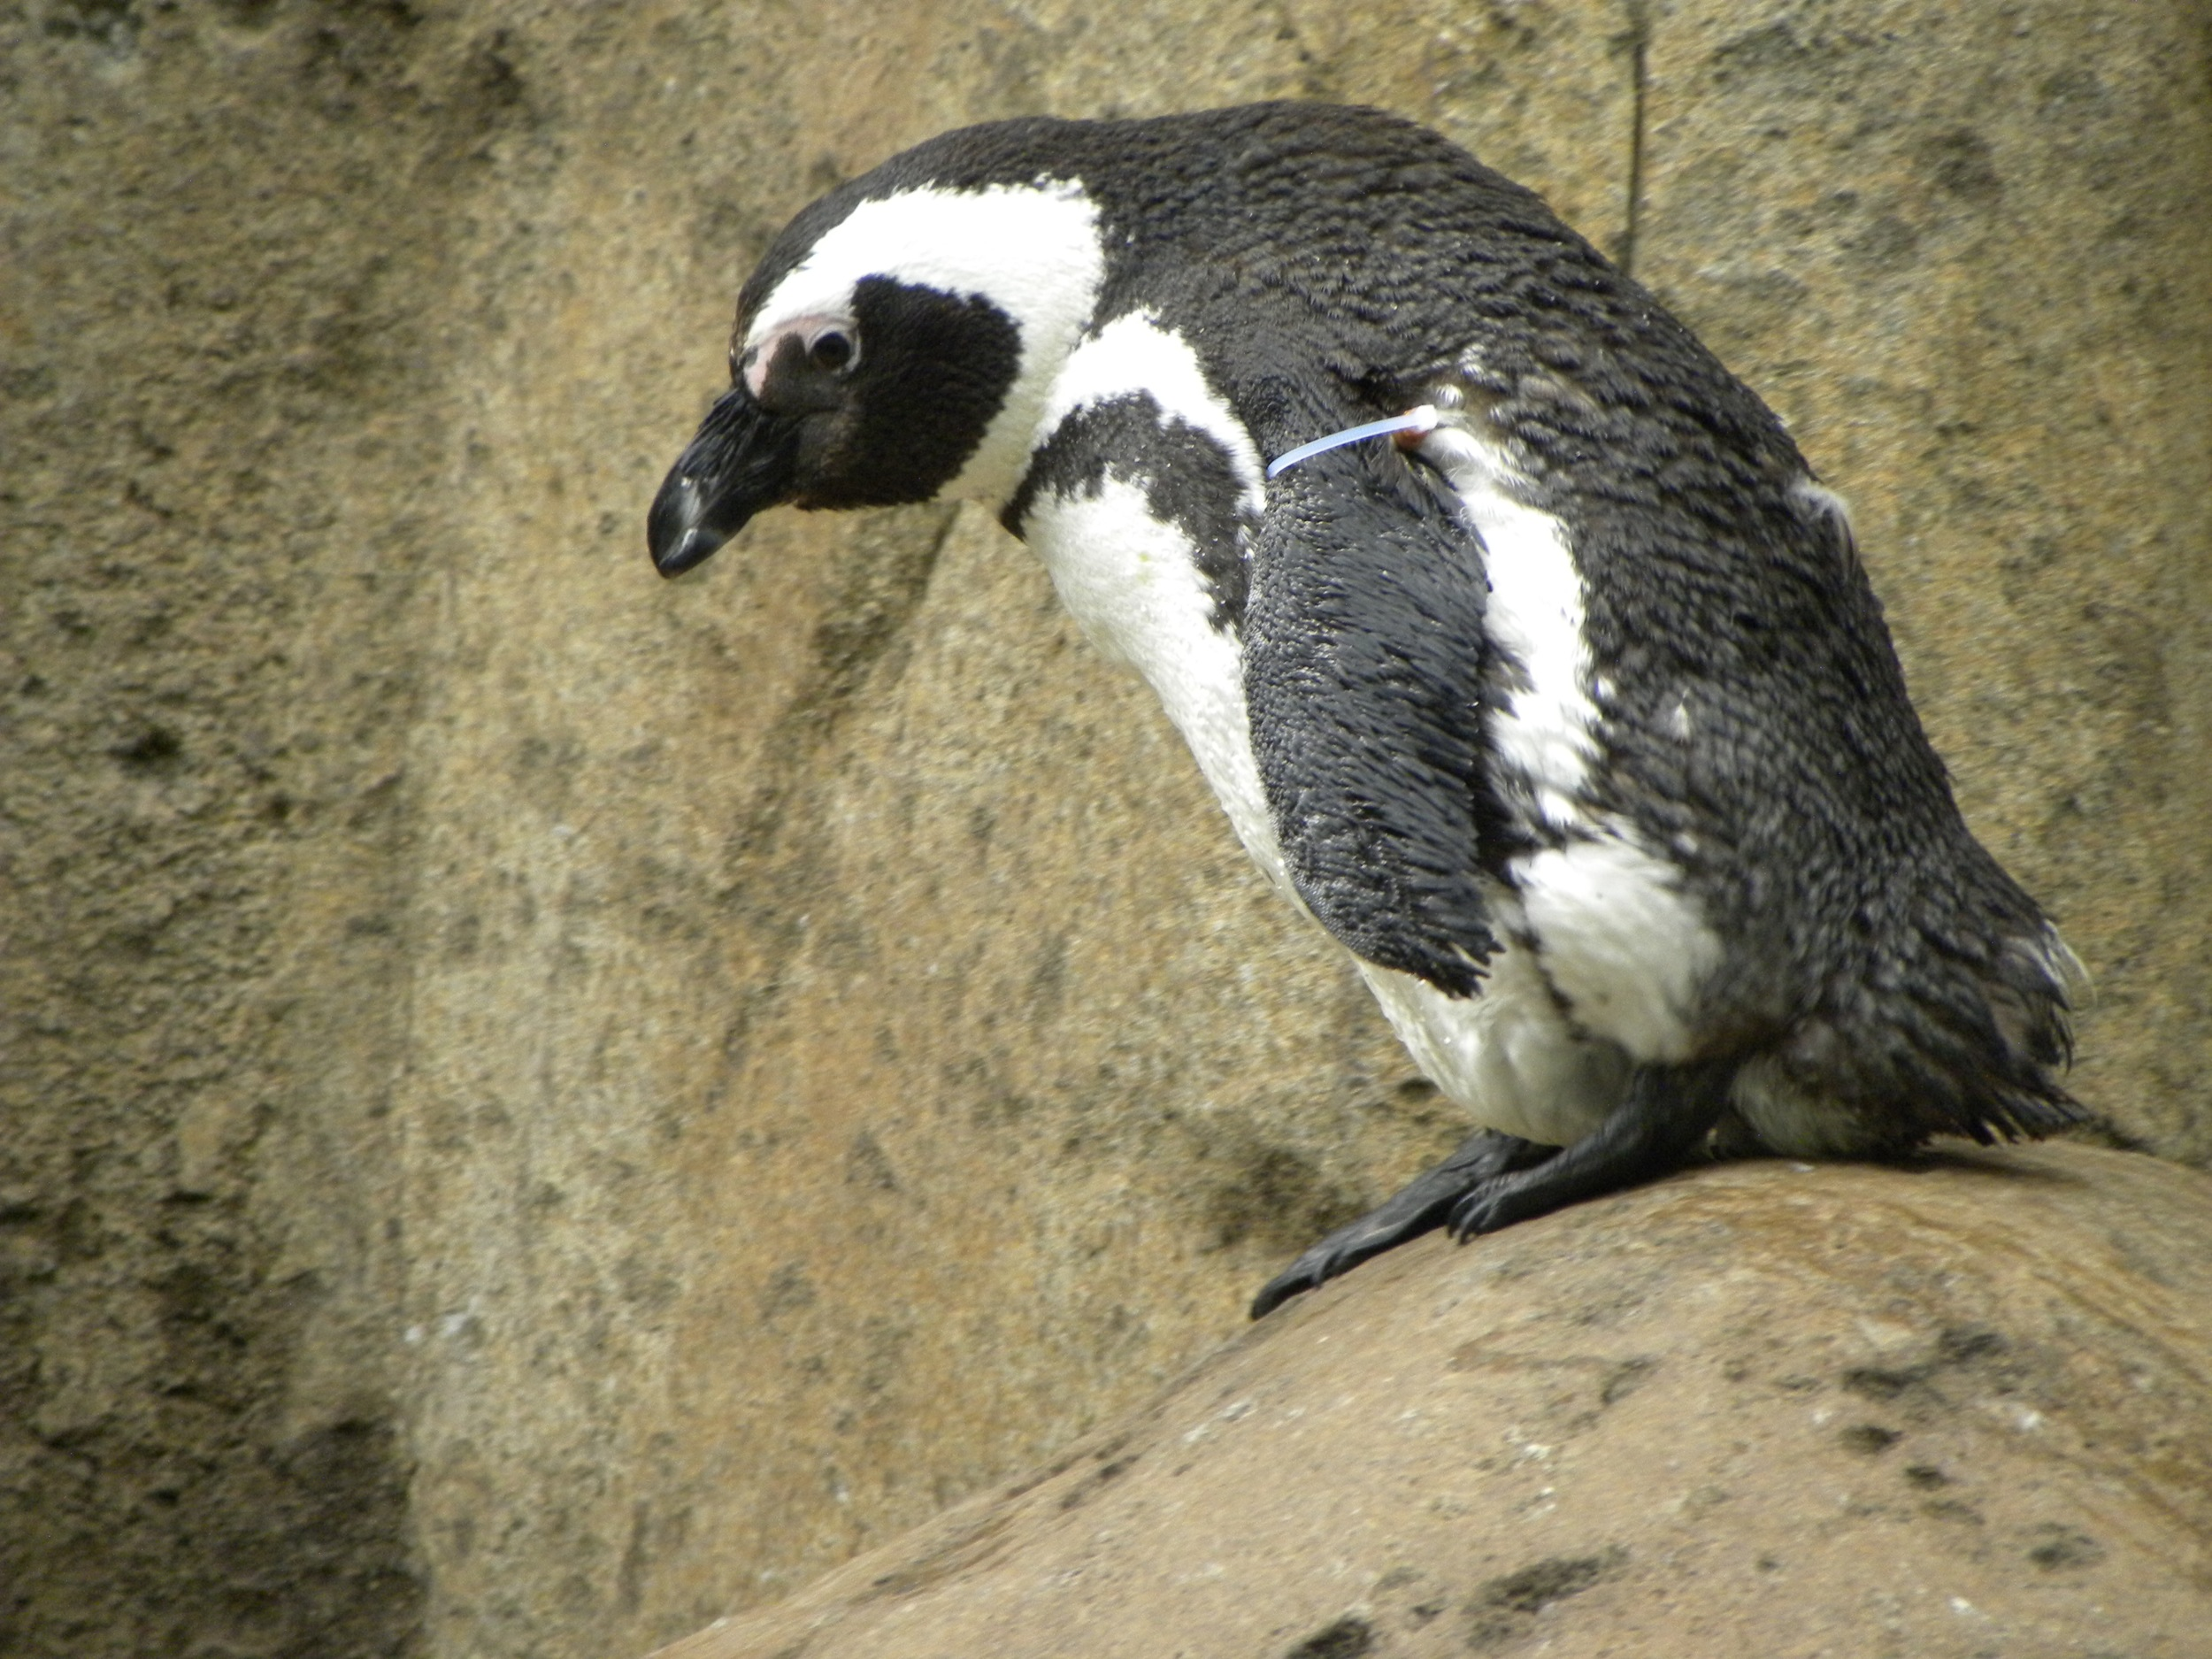penguin: (657, 106, 2106, 1232)
